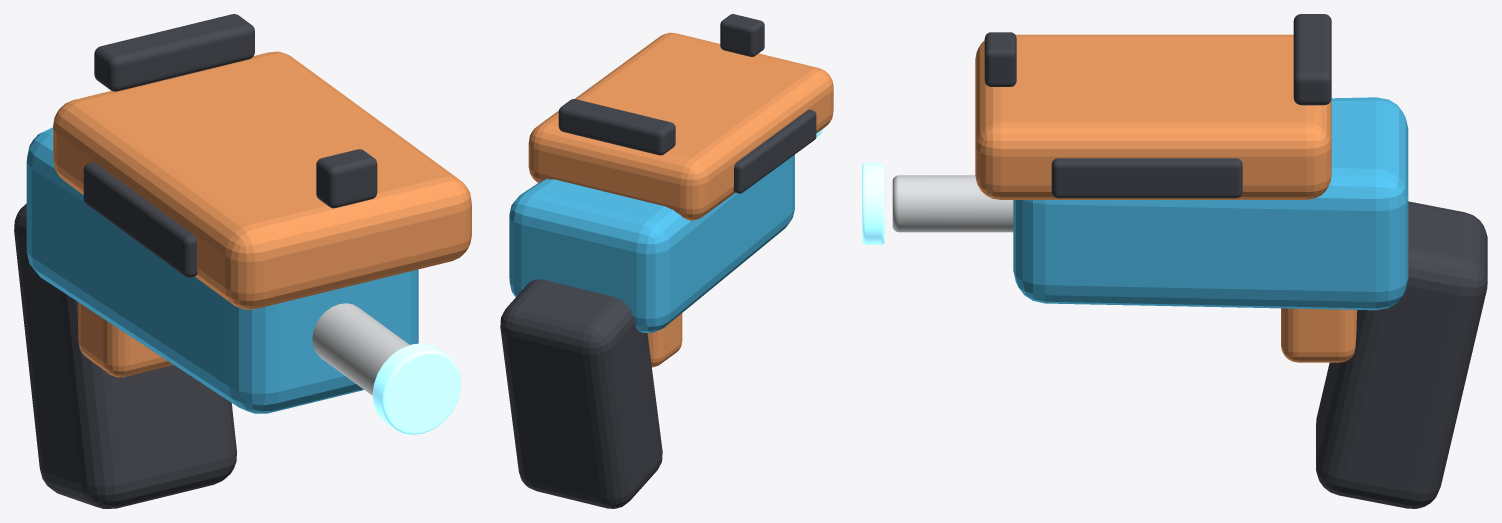
File: pistol.glb
3 renders of one model, left to right at view 1: azimuth 30°, elevation 25°; view 2: azimuth 150°, elevation 25°; view 3: azimuth 270°, elevation 25°, orthographic. The views are drawn at different scales.
Parts seen in each view (by area): view 1: Slide, Body, Grip, RearSight, PistolMuzzleGlow, SlideInsetLeft, PistolBarrel, TriggerGuard, FrontSight; view 2: Slide, Grip, Body, RearSight, SlideInsetLeft, FrontSight, TriggerGuard; view 3: Body, Slide, Grip, SlideInsetRight, PistolBarrel, TriggerGuard, RearSight, PistolMuzzleGlow, FrontSight.
Boxes of the visible parts, x1,y1,x2,y2 form: Slide: [53, 51, 471, 309]; Body: [26, 127, 418, 413]; Grip: [14, 203, 236, 508]; RearSight: [94, 14, 254, 91]; PistolMuzzleGlow: [372, 343, 461, 434]; SlideInsetLeft: [83, 162, 197, 277]; PistolBarrel: [312, 303, 409, 395]; TriggerGuard: [78, 302, 173, 377]; FrontSight: [316, 149, 377, 208]; Slide: [528, 32, 833, 220]; Grip: [500, 279, 662, 508]; Body: [509, 154, 794, 332]; RearSight: [558, 99, 675, 155]; SlideInsetLeft: [733, 109, 816, 193]; FrontSight: [720, 14, 764, 56]; TriggerGuard: [647, 313, 682, 367]; Body: [1013, 97, 1408, 310]; Slide: [975, 34, 1331, 199]; Grip: [1316, 201, 1487, 508]; SlideInsetRight: [1051, 158, 1242, 198]; PistolBarrel: [892, 175, 1013, 232]; TriggerGuard: [1281, 308, 1357, 362]; RearSight: [1293, 14, 1331, 105]; PistolMuzzleGlow: [862, 162, 884, 244]; FrontSight: [984, 32, 1016, 86].
Size of the model in its own units: 0.435 by 0.7699 by 0.9824.
